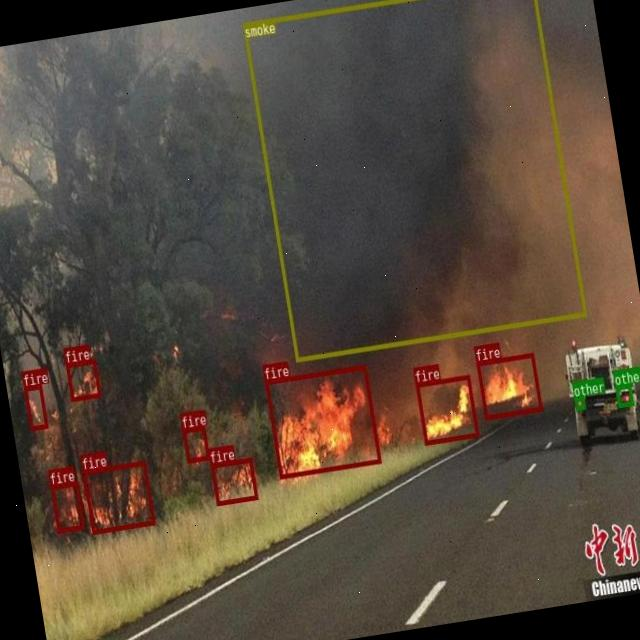fire: (264, 364, 381, 478), (83, 461, 155, 534), (415, 374, 479, 444), (477, 353, 542, 419), (210, 458, 258, 504), (50, 481, 84, 533), (66, 358, 102, 401), (24, 384, 48, 430), (182, 426, 210, 462)
smoke: (242, 0, 586, 361)
